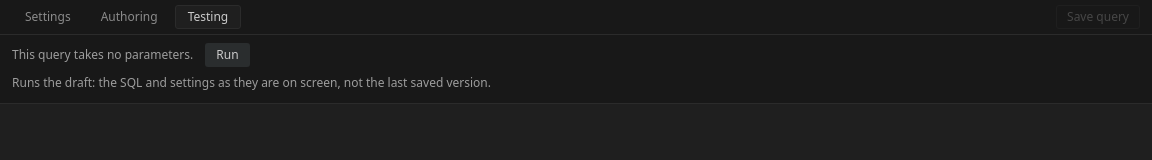
Test: Testing › keeps a gateway refusal apart from a SQL error
What coordinates should you click on to do the following:
click the button "Run"
I would click on:
 (227, 55)
Its box is [205, 43, 250, 67].
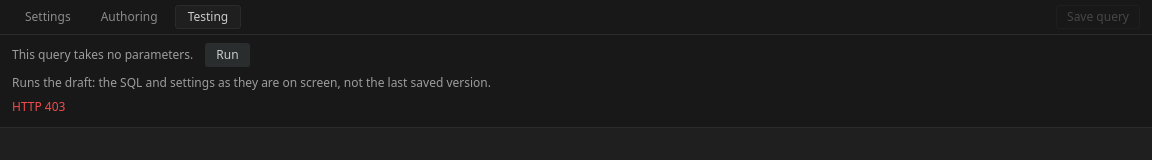
Expected: the message "HTTP 403" is shown, [12, 98, 66, 115]
